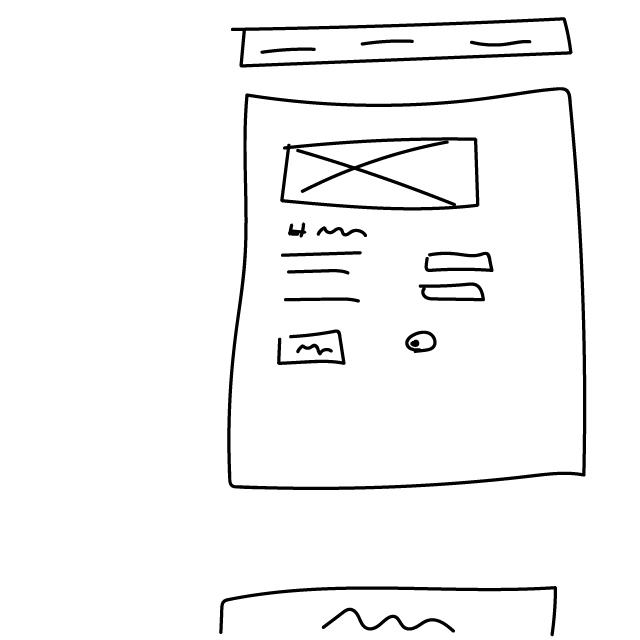button: (272, 324, 355, 373)
checkbox: (403, 328, 443, 355)
container: (219, 85, 608, 511)
footer: (210, 575, 572, 640)
frame: (278, 134, 489, 215)
heading: (287, 218, 370, 244)
input: (423, 249, 498, 276), (420, 280, 489, 306)
nav: (229, 12, 579, 69)
text: (279, 247, 374, 307)
